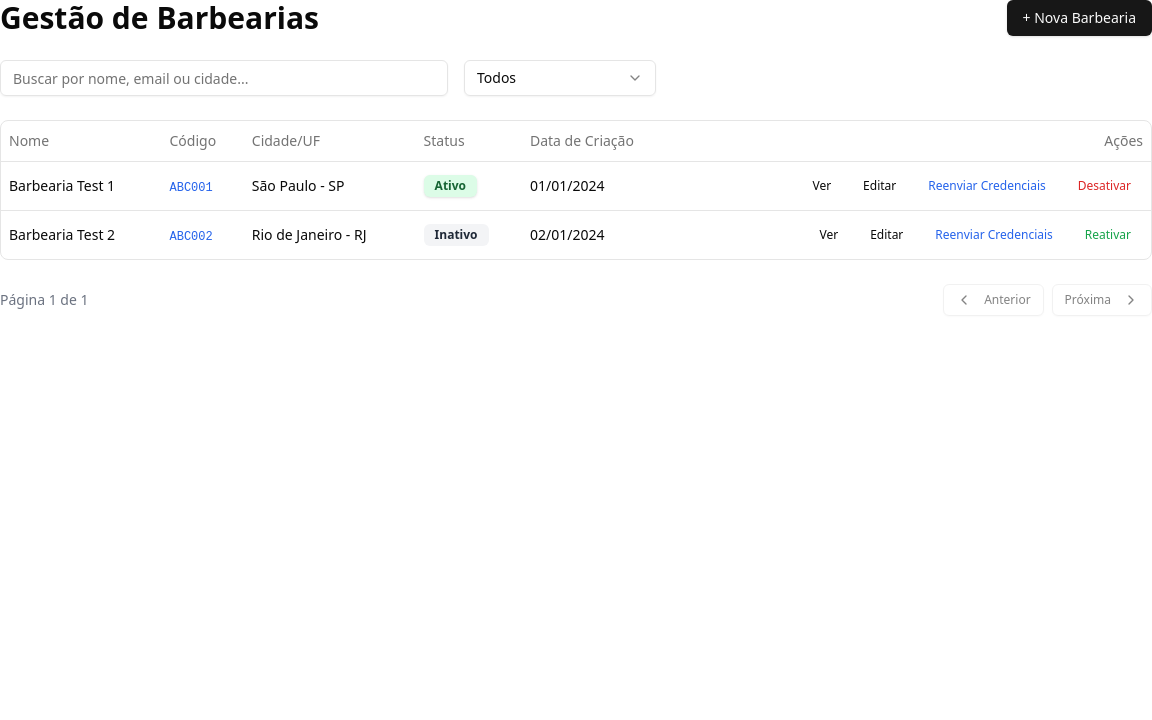
Test: BarbershopList › closes deactivate modal when cancel is clicked
Open deactivate modal
Click the button "Desativar".
click(1104, 186)  # box [1066,170,1143,202]
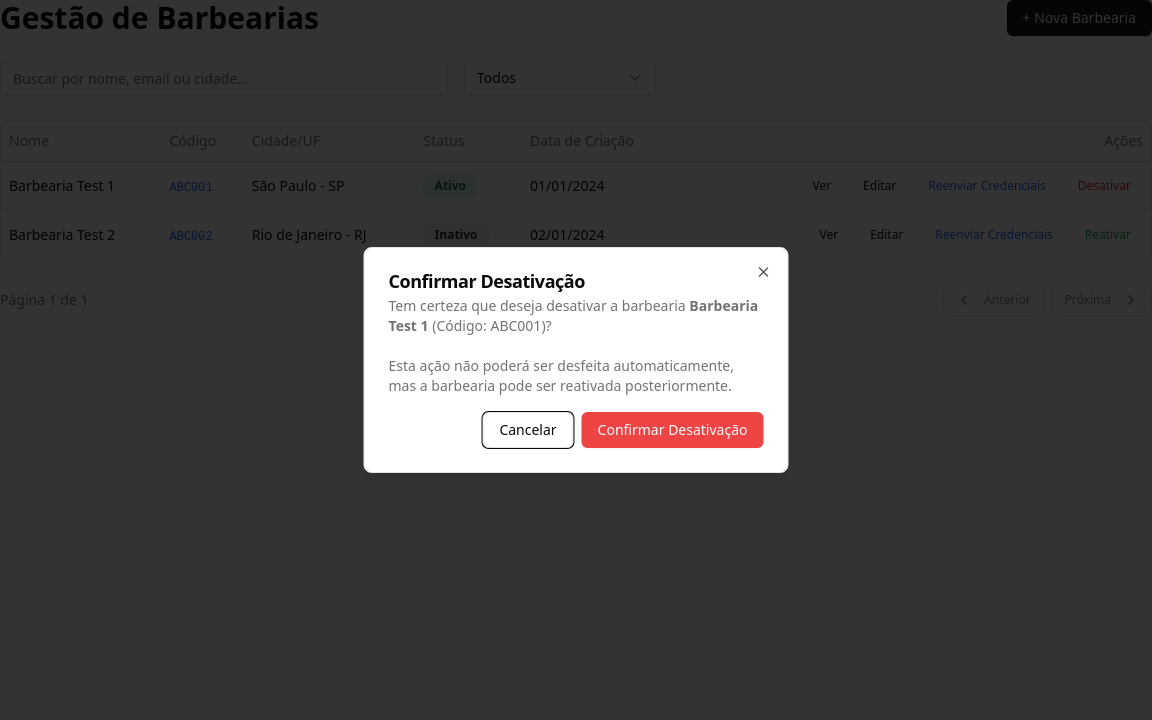
Expected: the heading "Confirmar Desativação" is shown, [388,269,585,293]
Cancel deactivation
Click the button with aria-label "Cancelar desativação".
click(528, 430)  # box [482,412,574,448]
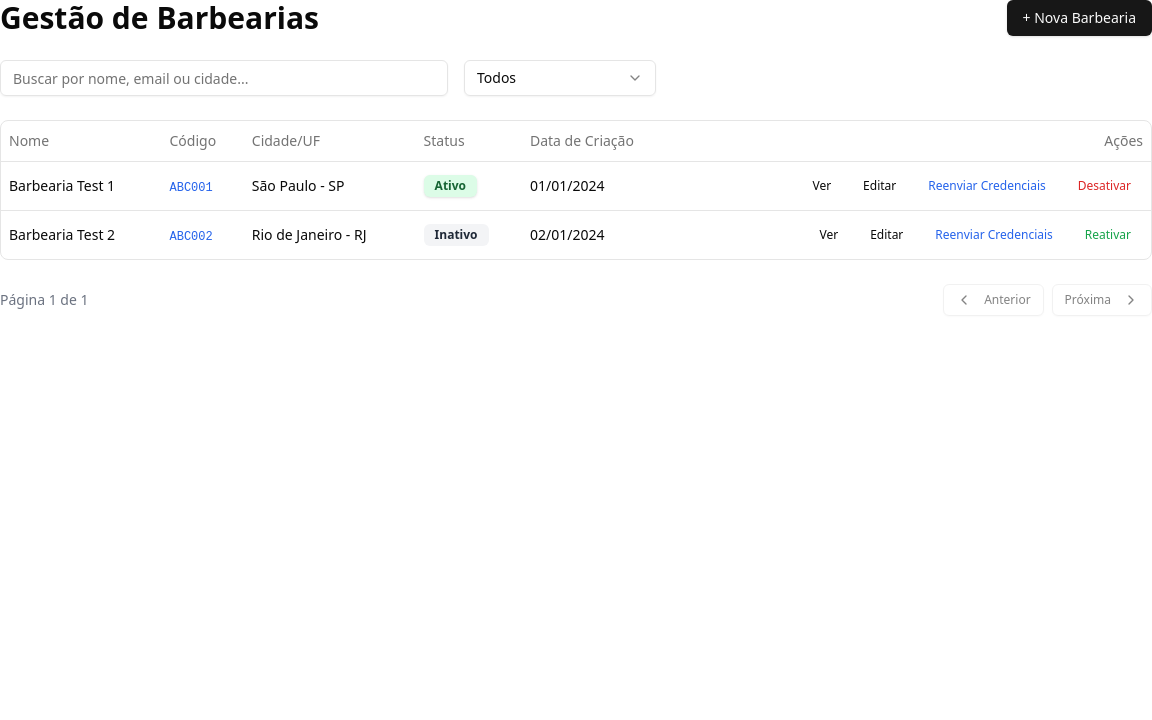
Expected: the heading "Confirmar Desativação" is gone
